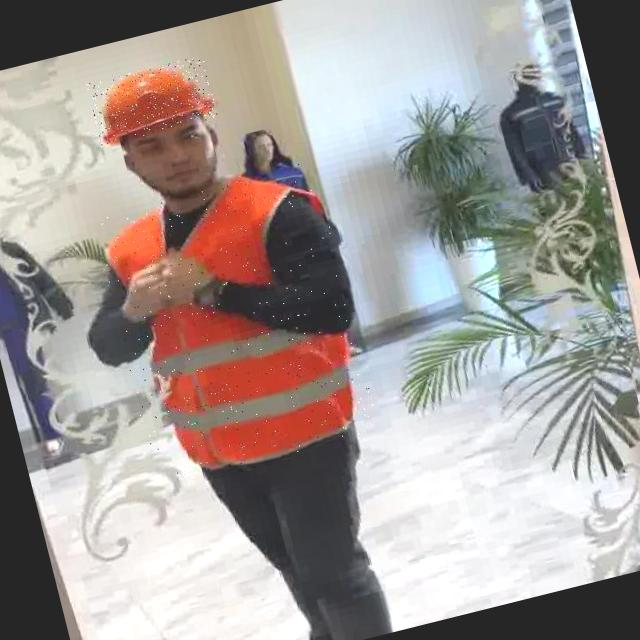no-gloves: (109, 254, 176, 328), (153, 238, 214, 311)
vest: (90, 160, 381, 489)
